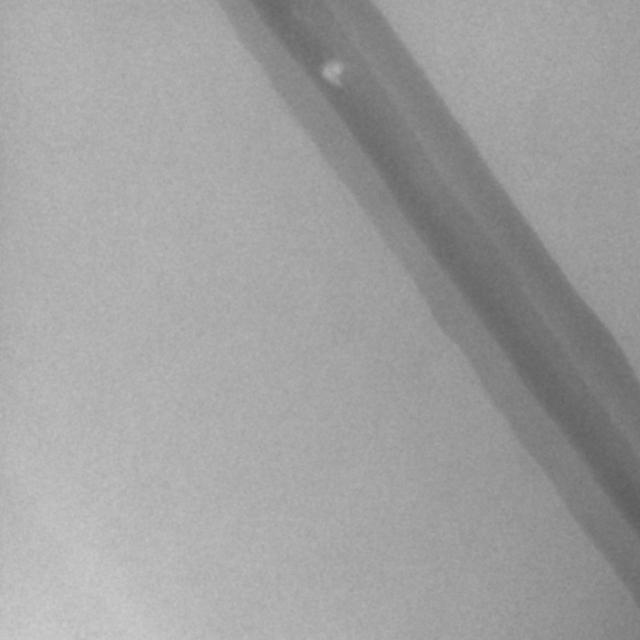slag inclusion: (321, 63, 343, 85)
